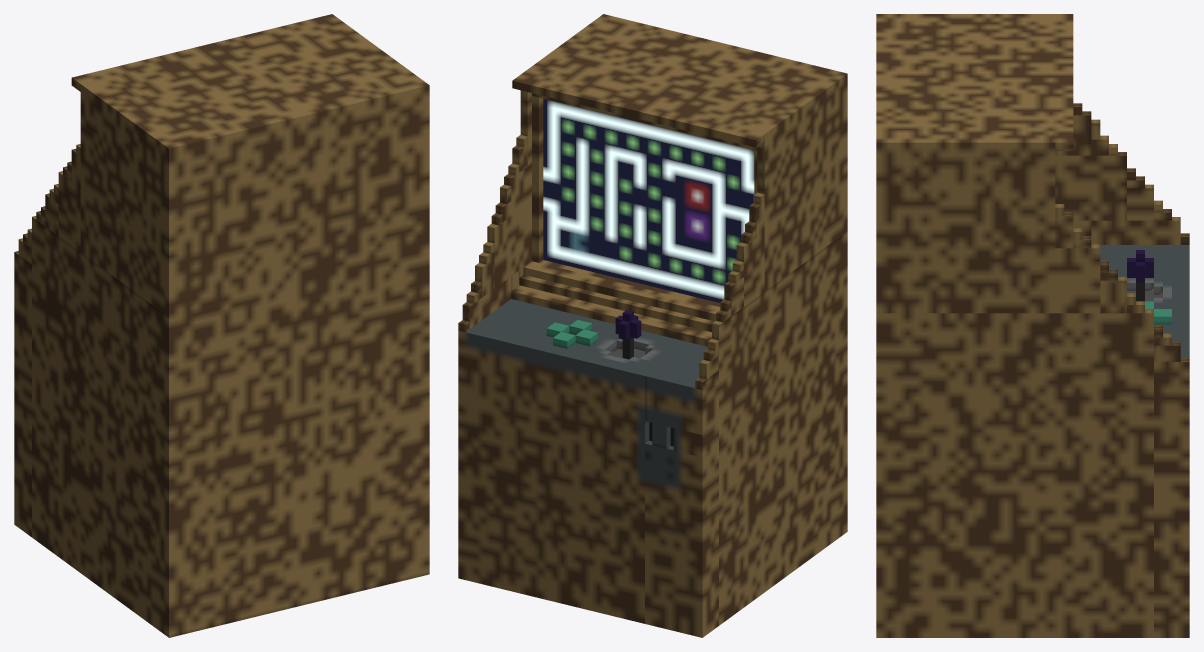
The picture shows the model from 3 angles, left to right: view 1: azimuth 30°, elevation 25°; view 2: azimuth 150°, elevation 25°; view 3: azimuth 270°, elevation 25°; orthographic projection. The views are drawn at different scales.
Parts seen in each view (by area): view 1: Content; view 2: Content; view 3: Content.
Part boxes in pixels (bbox=[...]): Content: bbox=[14, 14, 429, 637]; Content: bbox=[458, 14, 847, 637]; Content: bbox=[876, 14, 1189, 637].
Bounding box in the file's own units: 34 × 61 × 35.
1 material, 1 textured.
